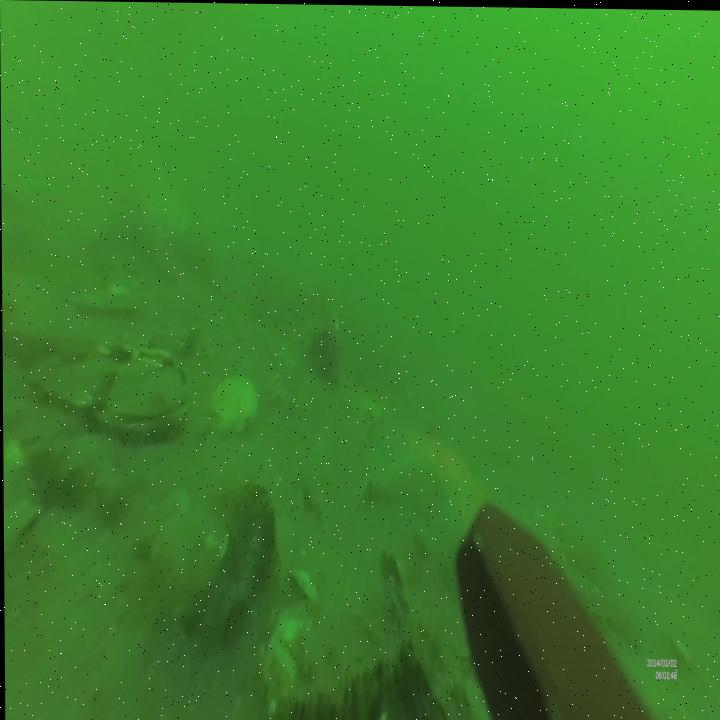scallop: (209, 371, 259, 426)
